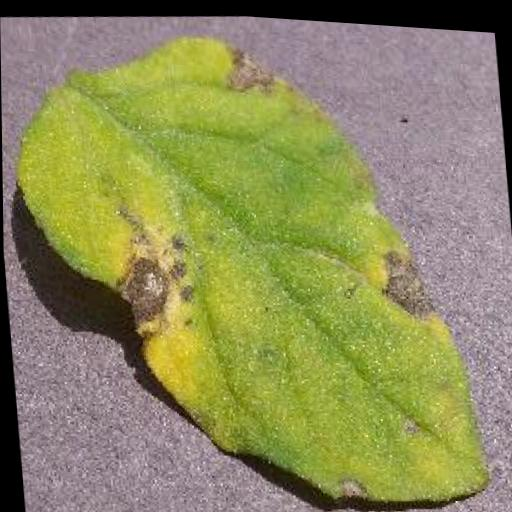Septoria: (7, 6, 503, 512)
